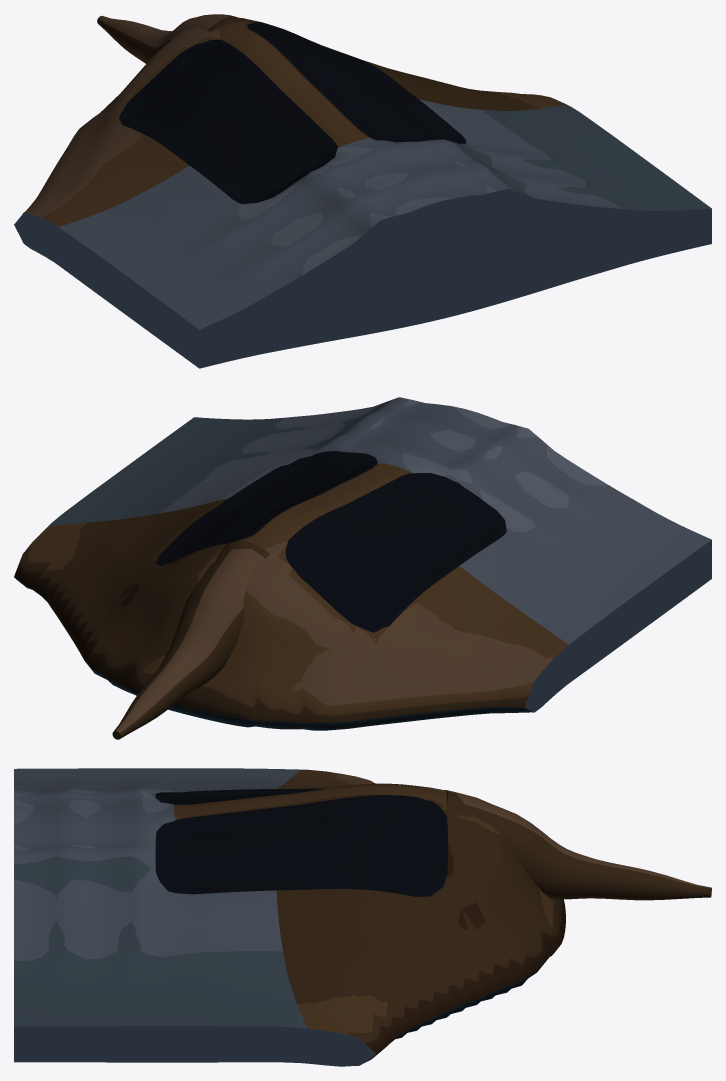
The model's file is coral_manta_back.glb.
3 views of the same model, one above another, from view 1: azimuth 30°, elevation 25°; view 2: azimuth 150°, elevation 25°; view 3: azimuth 270°, elevation 25° (orthographic).
Parts seen in each view (by area): view 1: coral_manta_back; view 2: coral_manta_back; view 3: coral_manta_back.
Boxes of the visible parts, box(x1,y1,x2,y2) form: coral_manta_back: box(14, 14, 711, 368); coral_manta_back: box(14, 397, 711, 739); coral_manta_back: box(14, 768, 711, 1066).
Size of the model in its own units: 24 by 6.74 by 27.9.
